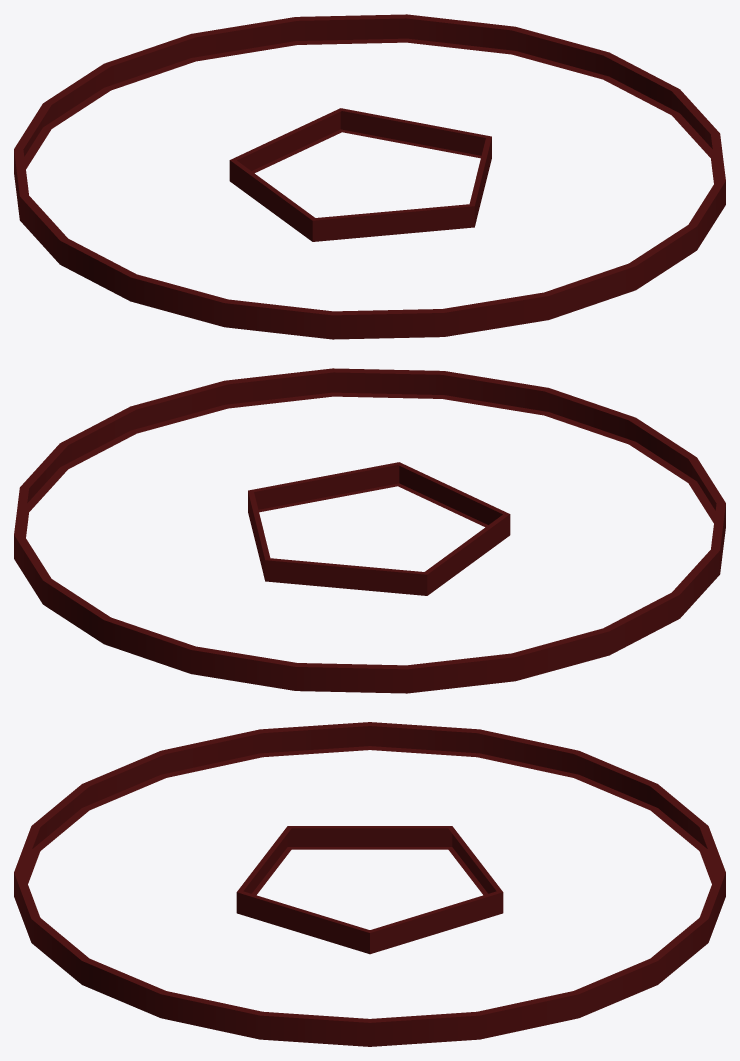
The model's file is pentaBaseExport.fbx.
The picture shows the model from 3 angles, top to bottom: view 1: azimuth 30°, elevation 25°; view 2: azimuth 150°, elevation 25°; view 3: azimuth 270°, elevation 25°; orthographic projection.
Visible parts, largest first — view 1: pCylinder3, pCylinder4; view 2: pCylinder3, pCylinder4; view 3: pCylinder3, pCylinder4.
Part boxes in pixels (x1,y1,x2,y2): pCylinder3: (14,14,725,339); pCylinder4: (229,108,491,241); pCylinder3: (14,368,725,693); pCylinder4: (248,462,510,595); pCylinder3: (14,722,725,1046); pCylinder4: (236,826,503,954).
Size of the model in its own units: 15.24 by 0.5675 by 15.24.
